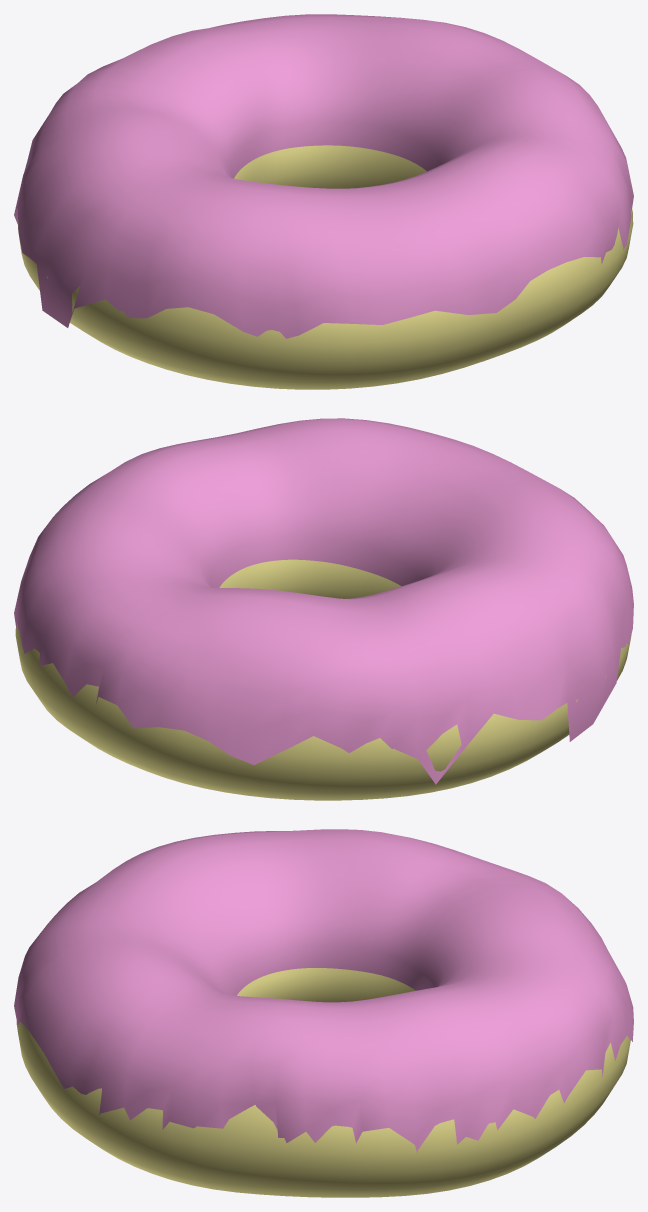
3 views of the same model, one above another, from view 1: azimuth 30°, elevation 25°; view 2: azimuth 150°, elevation 25°; view 3: azimuth 270°, elevation 25° (orthographic).
Parts seen in each view (by area): view 1: ICING, DONUT; view 2: ICING, DONUT; view 3: ICING, DONUT.
Boxes of the visible parts, x1,y1,x2,y2 form: ICING: (14, 14, 633, 338); DONUT: (17, 145, 633, 389); ICING: (14, 418, 633, 784); DONUT: (15, 559, 631, 800); ICING: (14, 829, 633, 1153); DONUT: (16, 968, 630, 1197).
Size of the model in its own units: 1.92 by 0.6408 by 1.92.
